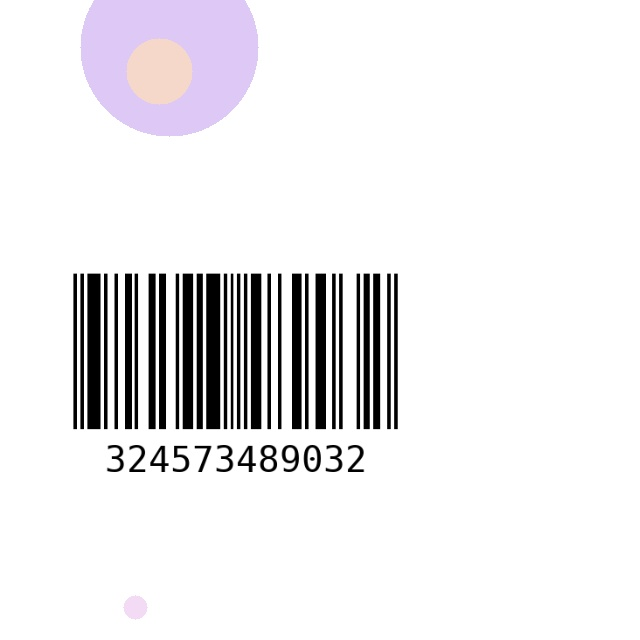barcode: (7, 264, 464, 509)
